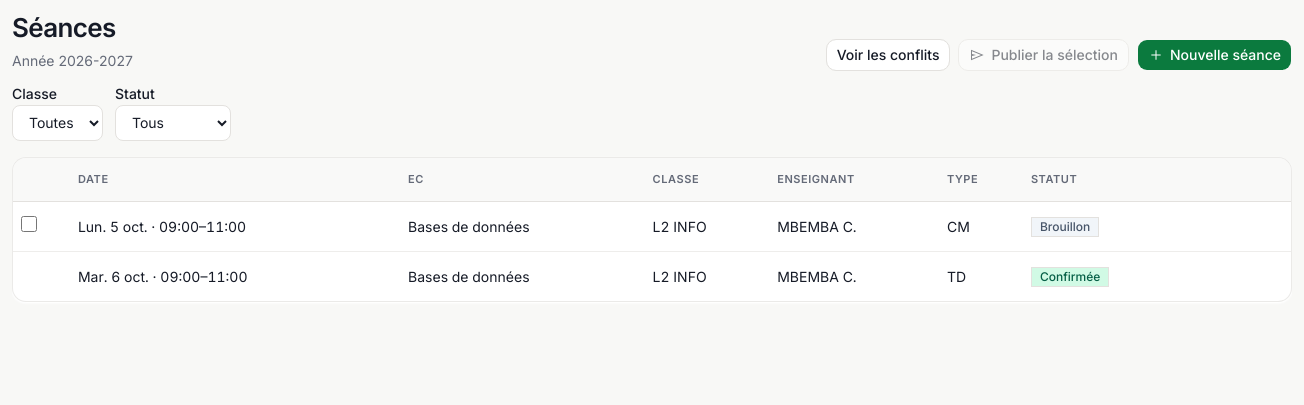
Test: EDT — Séances › affiche les erreurs de publication en masse
Step 1. Click the checkbox named "Sélectionner la séance du 05/10/2026" → (29, 224), box [21,216,37,232]
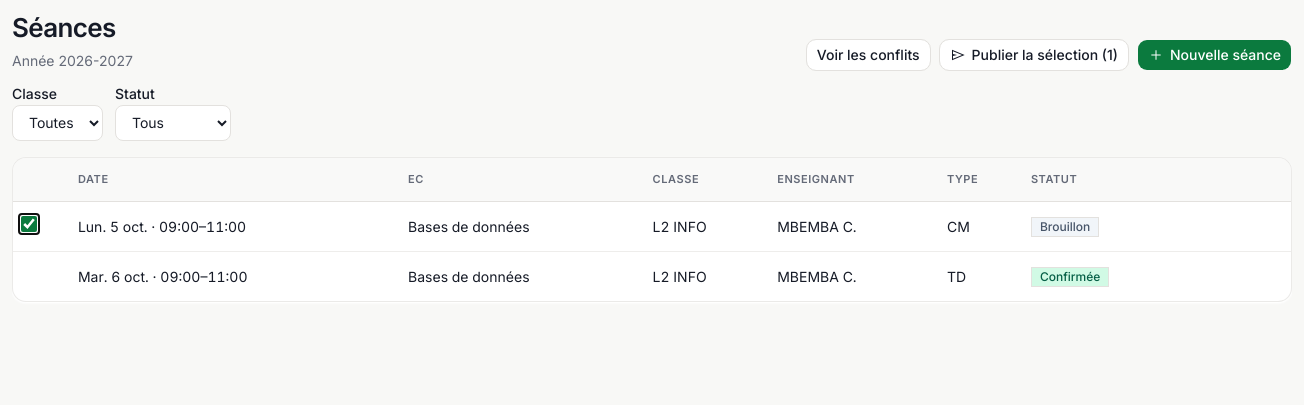
Step 2. Click the button "Publier la sélection (1)" → (1034, 54), box [939,38,1129,70]
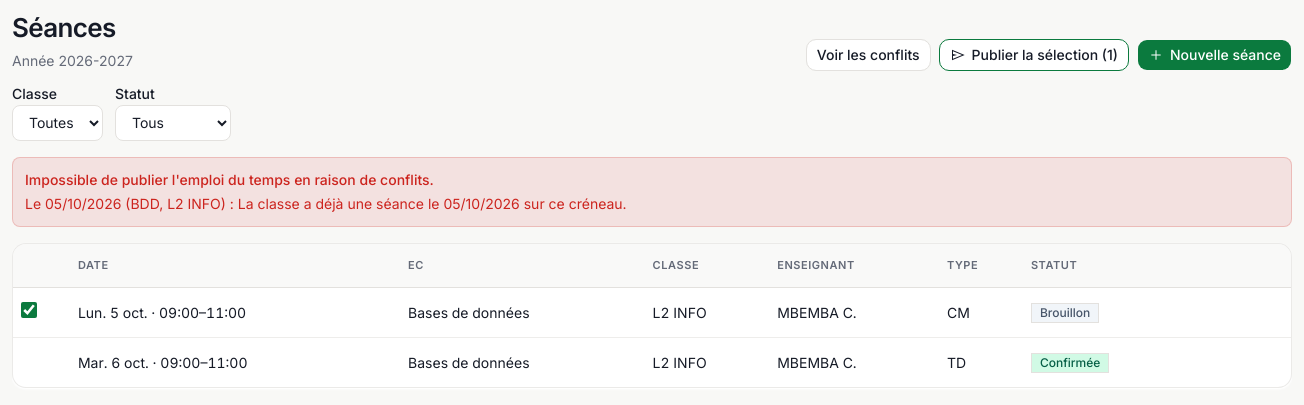
Result: the text "La classe a déjà une séance" is shown at [25,194,627,212]
